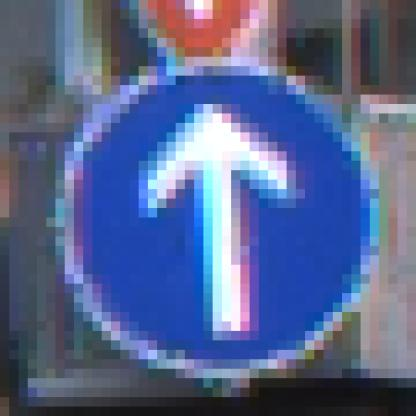AheadOnly: (56, 58, 371, 370)
